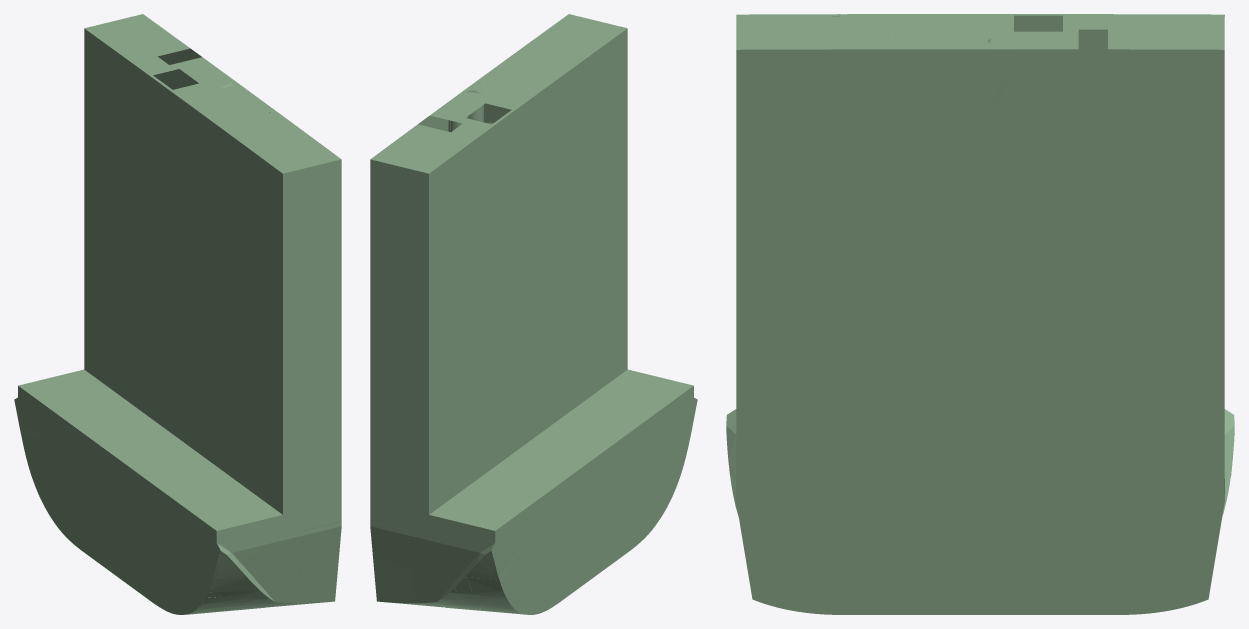
The model's file is PUMP_ROOM.glb.
3 views of the same model, side by side, from view 1: azimuth 30°, elevation 25°; view 2: azimuth 150°, elevation 25°; view 3: azimuth 270°, elevation 25° (orthographic). The views are drawn at different scales.
Visible parts, largest first — view 1: PL_PlatFormDeckxEPRP_001001-17.5_NVA_1993, PL_PlatFormDeckxEPRS_001002-17.5_NVA_1993, PL_TransxFR45P_002001-18.5_NVA_1993, PL_TransxFR45S_002002-18.5_NVA_1993, PL_TransxFR50P_010001-12.5_NVA_1993, PL_TransxFR50S_010001-12.5_NVA_1993, PL_PlatFormDeckxEPRP_001002-17.5_NVA_1993, PL_PlatFormDeckxEPRS_001001-17.5_NVA_1993, PL_TransxFR50P_005001-17_NVA_1993, PL_TransxFR50S_005002-17_NVA_1993, PL_TransxFR45P_001001-17.5_NVA_1993, PL_TransxFR45S_001002-17.5_NVA_1993 (+79 smaller); view 2: PL_PlatFormDeckxEPRP_001001-17.5_NVA_1993, PL_PlatFormDeckxEPRS_001002-17.5_NVA_1993, PL_TransxFR45P_002001-18.5_NVA_1993, PL_TransxFR45S_002002-18.5_NVA_1993, PL_TransxFR50S_010001-12.5_NVA_1993, PL_TransxFR50P_010001-12.5_NVA_1993, PL_PlatFormDeckxEPRS_001001-17.5_NVA_1993, PL_PlatFormDeckxEPRP_001002-17.5_NVA_1993, PL_TransxFR50S_005002-17_NVA_1993, PL_TransxFR50P_005001-17_NVA_1993, PL_TransxFR45S_001002-17.5_NVA_1993, PL_LBHDxEPRP_002009-17_NVA32_1993 (+78 smaller); view 3: PL_TransBHDxBHD51P_005003-17_NVA32_1993, PL_TransBHDxBHD51S_003004-17_NVA32_1993, PL_TransBHDxBHD51P_011003-14_NVA_1993, PL_TransBHDxBHD51S_009004-14_NVA_1993, PL_TransBHDxBHD51S_005004-15.5_NVA32_1993, PL_TransBHDxBHD51P_007003-15.5_NVA32_1993, PL_TransBHDxBHD51S_013004-13_NVA_1993, PL_TransBHDxBHD51P_016003-13_NVA_1993, PL_TransBHDxBHD51S_015004-19.5_NVA32_1993, PL_TransBHDxBHD51P_001003-19.5_NVA32_1993, PL_TransBHDxBHD51P_002007-18.5_NVA32_1993, PL_TransBHDxBHD51S_016008-18.5_NVA32_1993 (+49 smaller).
Boxes of the visible parts, x1,y1,x2,y2 form: PL_PlatFormDeckxEPRP_001001-17.5_NVA_1993: (61, 400, 183, 458); PL_PlatFormDeckxEPRS_001002-17.5_NVA_1993: (122, 445, 239, 499); PL_TransxFR45P_002001-18.5_NVA_1993: (60, 440, 117, 533); PL_TransxFR45S_002002-18.5_NVA_1993: (117, 481, 174, 574); PL_TransxFR50P_010001-12.5_NVA_1993: (128, 143, 183, 237); PL_TransxFR50S_010001-12.5_NVA_1993: (183, 184, 238, 277); PL_PlatFormDeckxEPRP_001002-17.5_NVA_1993: (18, 369, 126, 416); PL_PlatFormDeckxEPRS_001001-17.5_NVA_1993: (175, 484, 282, 530); PL_TransxFR50P_005001-17_NVA_1993: (126, 354, 183, 441); PL_TransxFR50S_005002-17_NVA_1993: (183, 396, 240, 483); PL_TransxFR45P_001001-17.5_NVA_1993: (60, 492, 117, 576); PL_TransxFR45S_001002-17.5_NVA_1993: (117, 534, 174, 613); PL_PlatFormDeckxEPRP_001001-17.5_NVA_1993: (472, 442, 593, 499); PL_PlatFormDeckxEPRS_001002-17.5_NVA_1993: (533, 400, 650, 454); PL_TransxFR45P_002001-18.5_NVA_1993: (537, 481, 594, 574); PL_TransxFR45S_002002-18.5_NVA_1993: (594, 440, 651, 533); PL_TransxFR50S_010001-12.5_NVA_1993: (528, 143, 583, 237); PL_TransxFR50P_010001-12.5_NVA_1993: (473, 184, 528, 277); PL_PlatFormDeckxEPRS_001001-17.5_NVA_1993: (585, 369, 693, 416); PL_PlatFormDeckxEPRP_001002-17.5_NVA_1993: (429, 484, 536, 530); PL_TransxFR50S_005002-17_NVA_1993: (528, 354, 585, 441); PL_TransxFR50P_005001-17_NVA_1993: (471, 396, 528, 483); PL_TransxFR45S_001002-17.5_NVA_1993: (594, 492, 651, 576); PL_LBHDxEPRP_002009-17_NVA32_1993: (370, 443, 409, 514); PL_TransBHDxBHD51P_005003-17_NVA32_1993: (980, 399, 1145, 476); PL_TransBHDxBHD51S_003004-17_NVA32_1993: (815, 399, 980, 476); PL_TransBHDxBHD51P_011003-14_NVA_1993: (980, 187, 1145, 261); PL_TransBHDxBHD51S_009004-14_NVA_1993: (815, 187, 980, 261); PL_TransBHDxBHD51S_005004-15.5_NVA32_1993: (815, 328, 980, 399); PL_TransBHDxBHD51P_007003-15.5_NVA32_1993: (980, 328, 1145, 399); PL_TransBHDxBHD51S_013004-13_NVA_1993: (815, 49, 980, 117); PL_TransBHDxBHD51P_016003-13_NVA_1993: (990, 49, 1145, 117); PL_TransBHDxBHD51S_015004-19.5_NVA32_1993: (815, 552, 980, 614); PL_TransBHDxBHD51P_001003-19.5_NVA32_1993: (980, 552, 1145, 614); PL_TransBHDxBHD51P_002007-18.5_NVA32_1993: (980, 495, 1145, 552); PL_TransBHDxBHD51S_016008-18.5_NVA32_1993: (815, 495, 980, 552).
Bounding box in the file's own units: 8.51 × 29.9 × 24.36.
